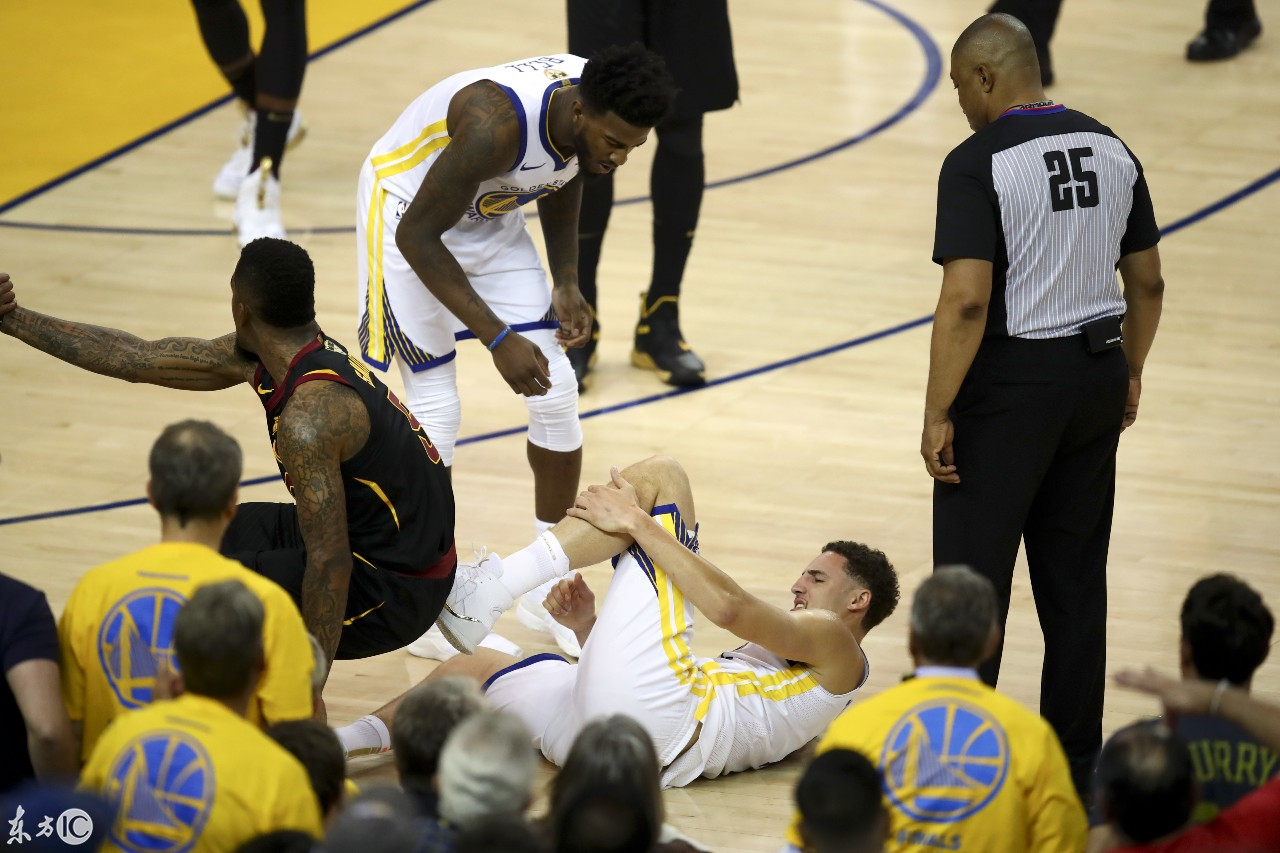10+: (1, 1, 1280, 853)
down: (370, 426, 915, 780)
